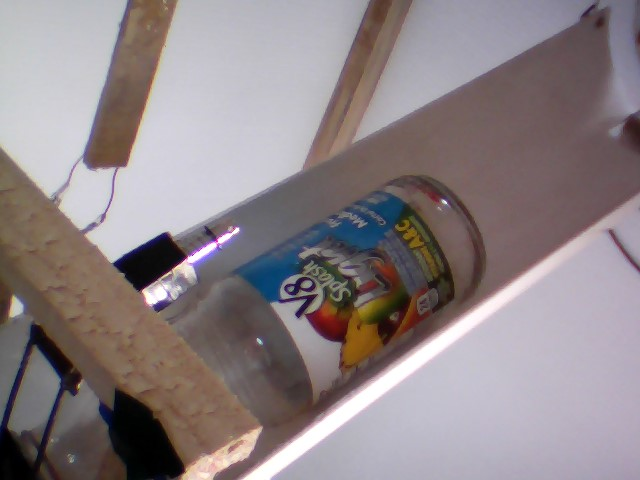vidrio: (194, 168, 491, 428)
